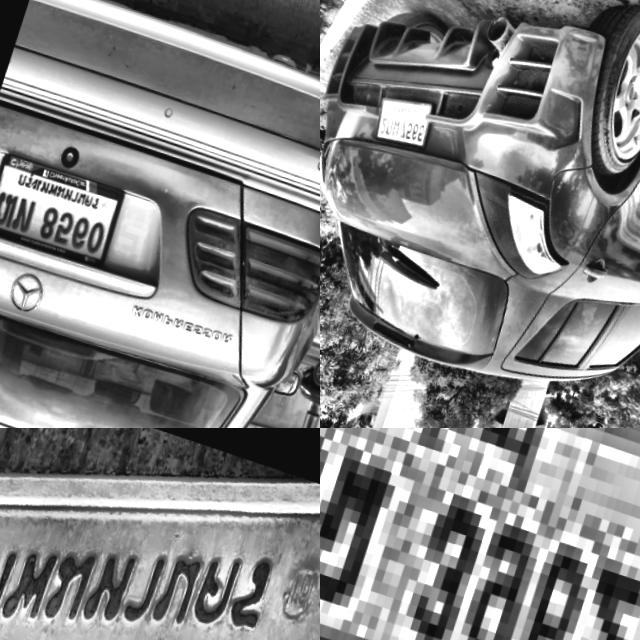license-plate: (0, 428, 320, 640), (320, 428, 640, 640), (0, 146, 130, 269), (372, 85, 441, 154)
